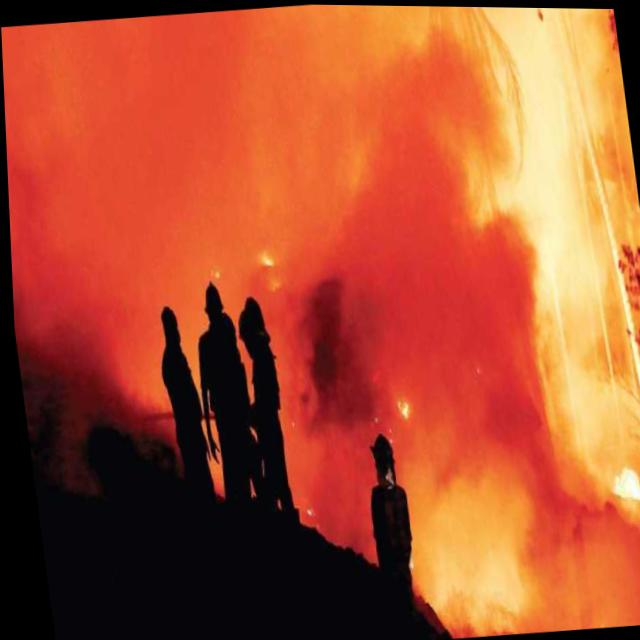fire: (442, 5, 640, 469), (416, 525, 532, 630), (601, 455, 640, 508), (388, 385, 412, 427), (250, 241, 278, 277), (206, 262, 220, 280)
